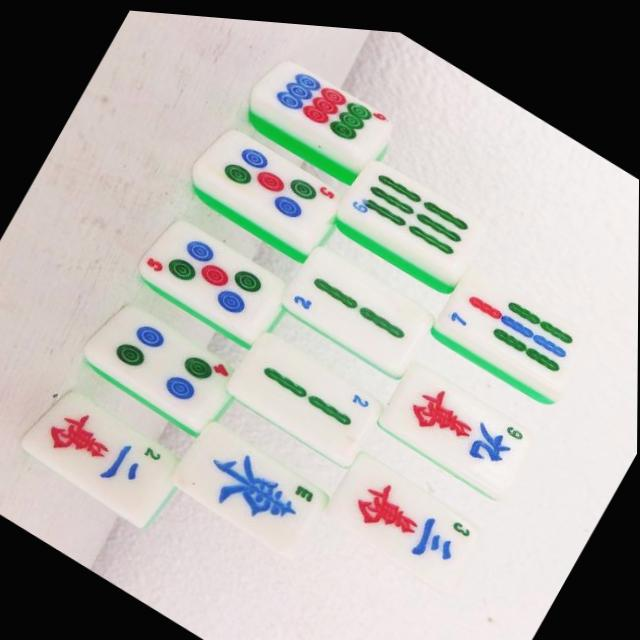hwe: (168, 412, 330, 556)
sb2: (224, 320, 380, 462), (285, 241, 428, 367)
sb6: (345, 153, 481, 271)
sb7: (435, 257, 577, 384)
sc2: (34, 388, 173, 510)
sc3: (321, 442, 484, 588)
sc9: (383, 353, 531, 484)
sd4: (95, 299, 233, 425)
sd5: (183, 112, 345, 256), (133, 209, 288, 350), (202, 122, 337, 242)
sd9: (238, 41, 391, 177)
